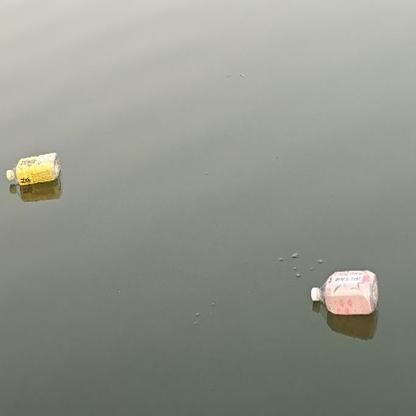plastic bottle: (311, 270, 380, 316), (6, 152, 62, 187)
